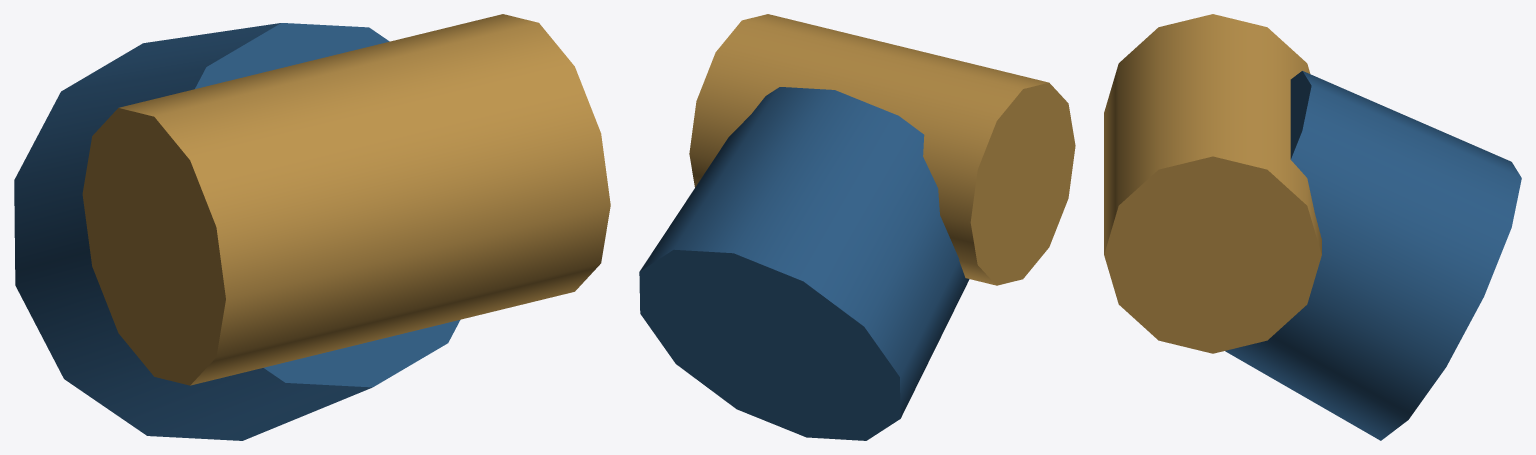
The model's file is rm2_neck.obj.
3 views of the same model, side by side, from view 1: azimuth 30°, elevation 25°; view 2: azimuth 150°, elevation 25°; view 3: azimuth 270°, elevation 25° (orthographic). The views are drawn at different scales.
Parts seen in each view (by area): view 1: rm2_neck; view 2: rm2_neck; view 3: rm2_neck.
Boxes of the visible parts, left/top/right/bottom form: rm2_neck: left=14, top=14, right=610, bottom=440; rm2_neck: left=639, top=14, right=1075, bottom=440; rm2_neck: left=1104, top=14, right=1521, bottom=440.
Size of the model in its own units: 0.13 by 0.1445 by 0.1611.
